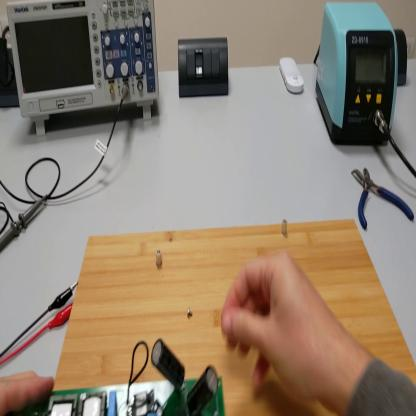hand: (223, 252, 342, 404), (2, 368, 53, 407)
high voltage board: (8, 331, 228, 416)
oscilloscope: (4, 1, 163, 137)
oscilloscope probe tip: (2, 192, 50, 252)
pliers: (352, 162, 415, 234)
socket: (1, 48, 20, 108), (394, 30, 409, 87)
welder station: (316, 2, 401, 149)
working area: (52, 219, 415, 415)
